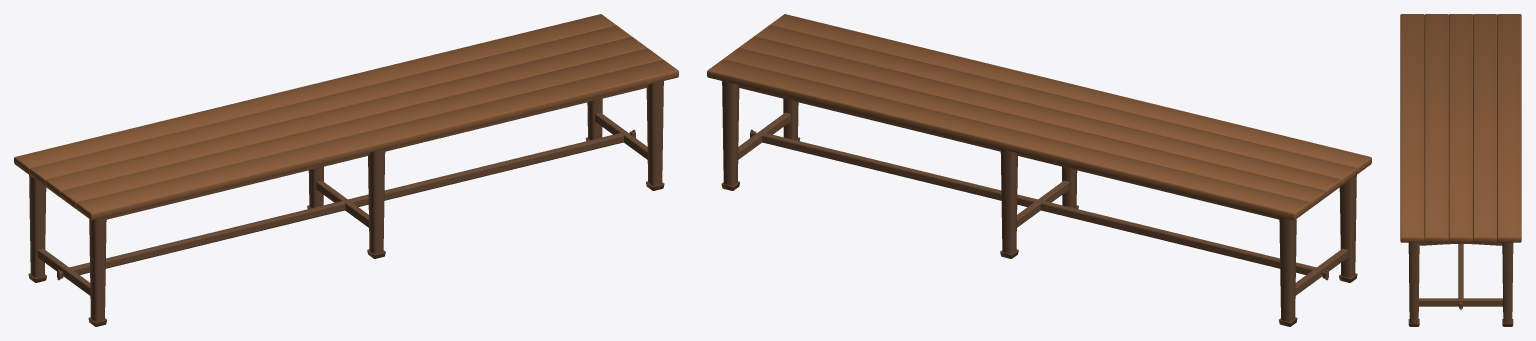
File: tableBanquet8.glb
The picture shows the model from 3 angles, left to right: view 1: azimuth 30°, elevation 25°; view 2: azimuth 150°, elevation 25°; view 3: azimuth 270°, elevation 25°; orthographic projection. The views are drawn at different scales.
Parts seen in each view (by area): view 1: tableBanquet8; view 2: tableBanquet8; view 3: tableBanquet8.
Part boxes in pixels (x1,y1,x2,y2): tableBanquet8: (14,14,678,326); tableBanquet8: (707,14,1371,326); tableBanquet8: (1400,14,1521,326).
Bounding box in the file's own units: 3.84 × 0.75 × 0.88.
